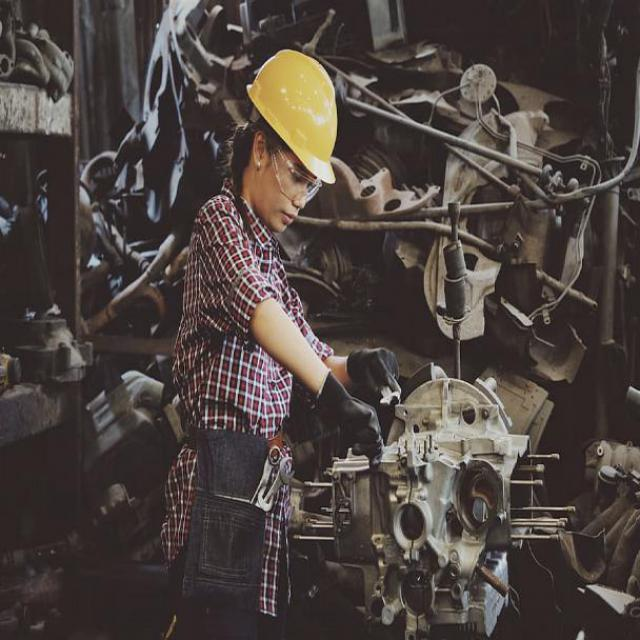gloves: (313, 370, 391, 476), (346, 330, 406, 403)
helmet: (230, 47, 352, 240)
